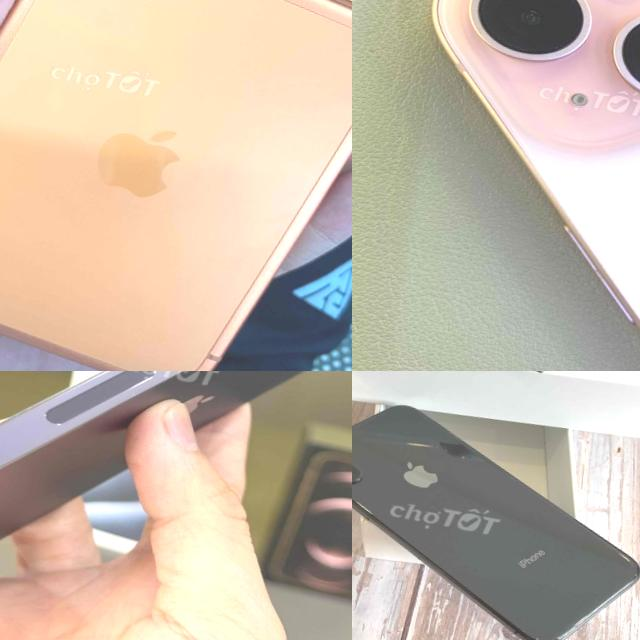gen_14: (0, 371, 302, 538)
gen_15: (352, 0, 640, 371)
gen_17: (0, 0, 352, 371)
gen_x_xs: (352, 407, 639, 640)
scratch: (352, 473, 373, 488)
